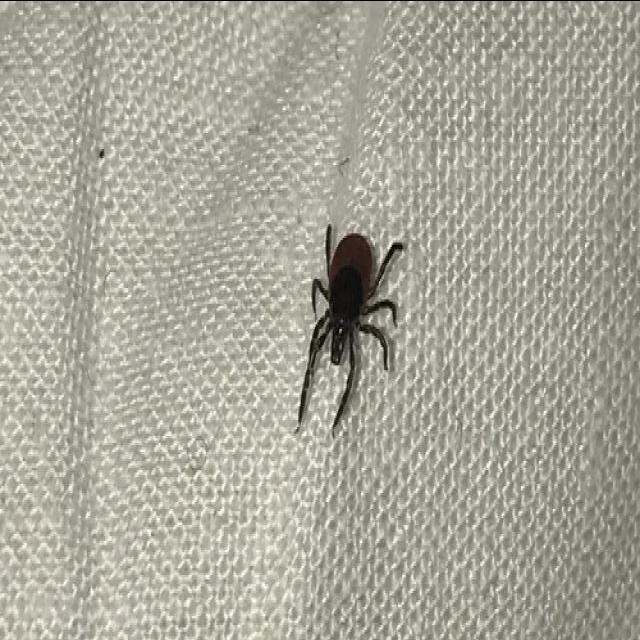Ixodes Ricinus-F: (298, 223, 406, 428)
